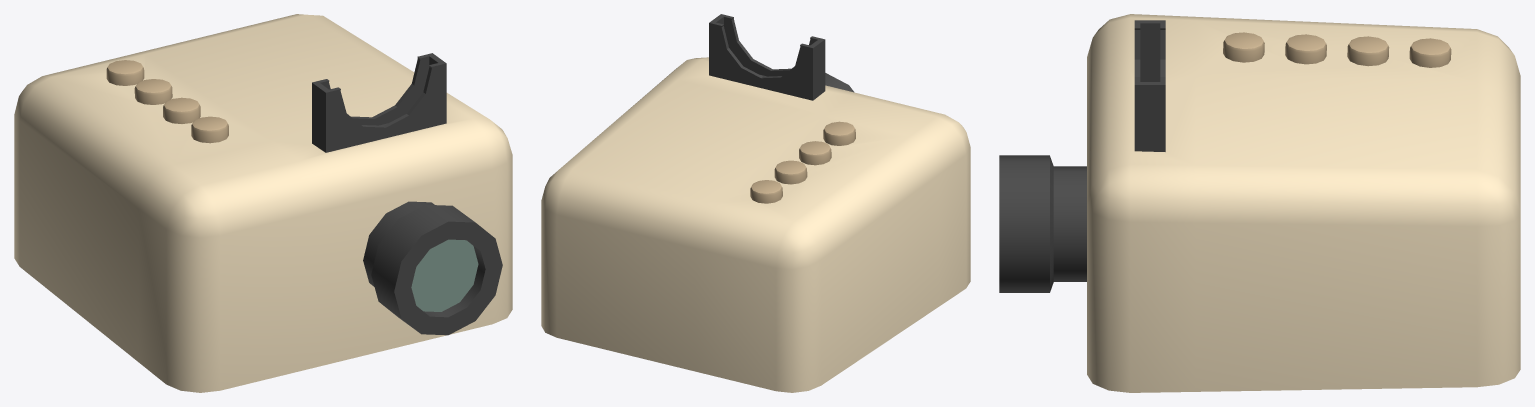
File: proyector_codigo_con_ranura_para_filtros_01.fbx
3 views of the same model, side by side, from view 1: azimuth 30°, elevation 25°; view 2: azimuth 150°, elevation 25°; view 3: azimuth 270°, elevation 25° (orthographic). The views are drawn at different scales.
Parts seen in each view (by area): view 1: Cubo; view 2: Cubo; view 3: Cubo.
Boxes of the visible parts, <box> form: Cubo: <box>14,14,512,392</box>; Cubo: <box>541,14,970,392</box>; Cubo: <box>999,14,1520,392</box>.
Size of the model in its own units: 105 by 73.54 by 126.
